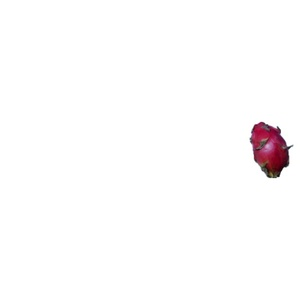pitaia: (251, 122, 293, 179)
